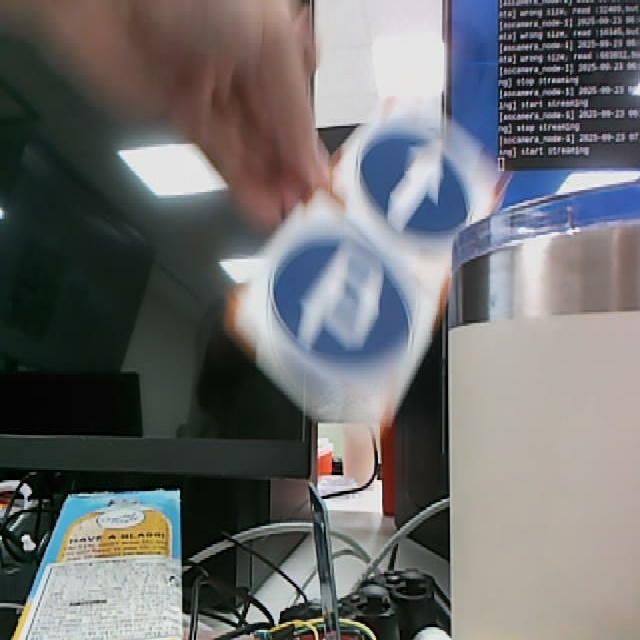parking: (229, 183, 448, 427)
strait: (325, 73, 518, 276)
